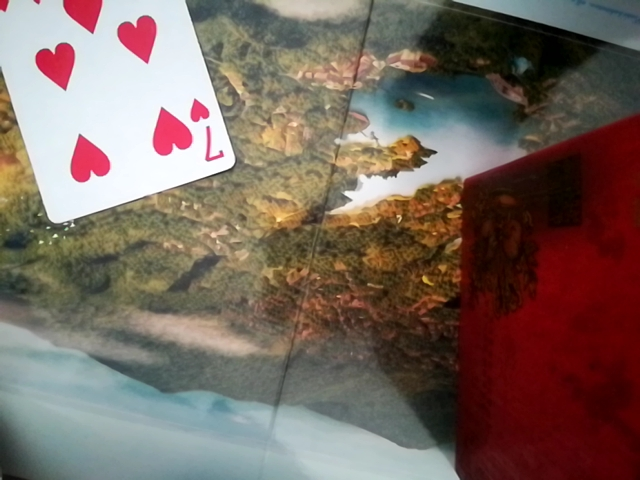hx 7: (0, 0, 234, 228)
